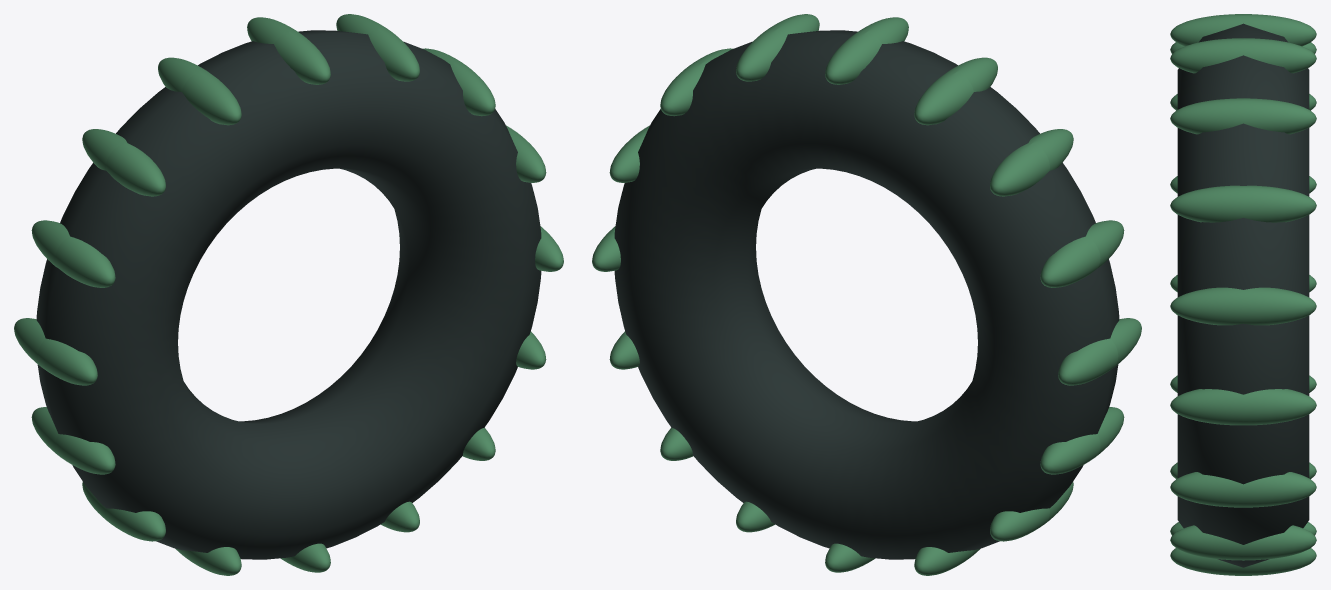
File: bonus-grip.glb
3 renders of one model, left to right at view 1: azimuth 30°, elevation 25°; view 2: azimuth 150°, elevation 25°; view 3: azimuth 270°, elevation 25°, orthographic. The views are drawn at different scales.
Parts seen in each view (by area): view 1: dark, green; view 2: dark, green; view 3: dark, green.
Boxes of the visible parts, <box> form: dark: <box>36,30,541,559</box>; green: <box>14,14,563,575</box>; dark: <box>614,30,1119,559</box>; green: <box>592,14,1141,575</box>; dark: <box>1177,23,1309,567</box>; green: <box>1170,14,1316,575</box>.
Bounding box in the file's own units: 0.69 × 0.69 × 0.18.
